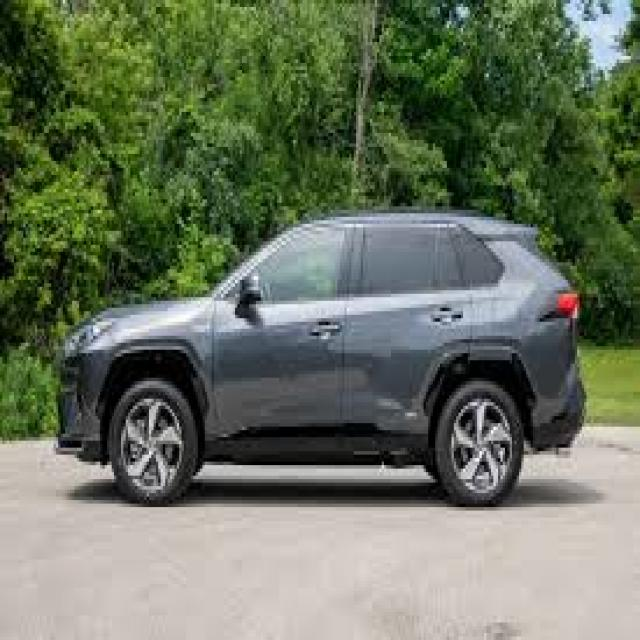light_vehicle: (52, 208, 588, 509)
